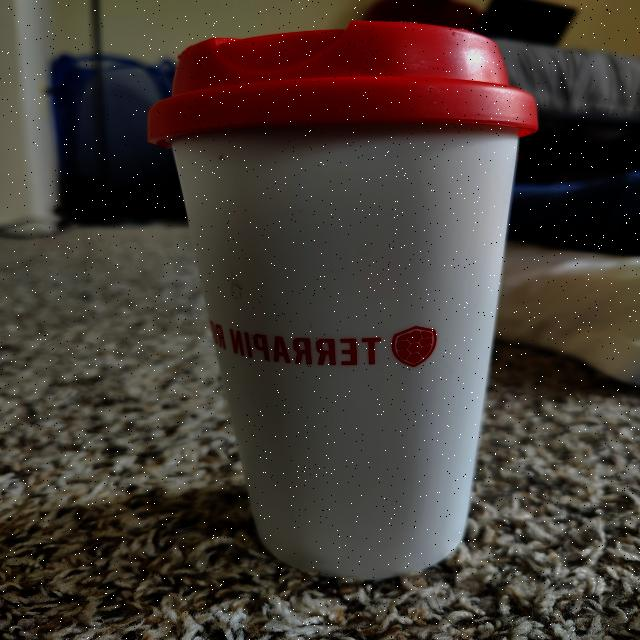mug: (159, 22, 549, 560)
